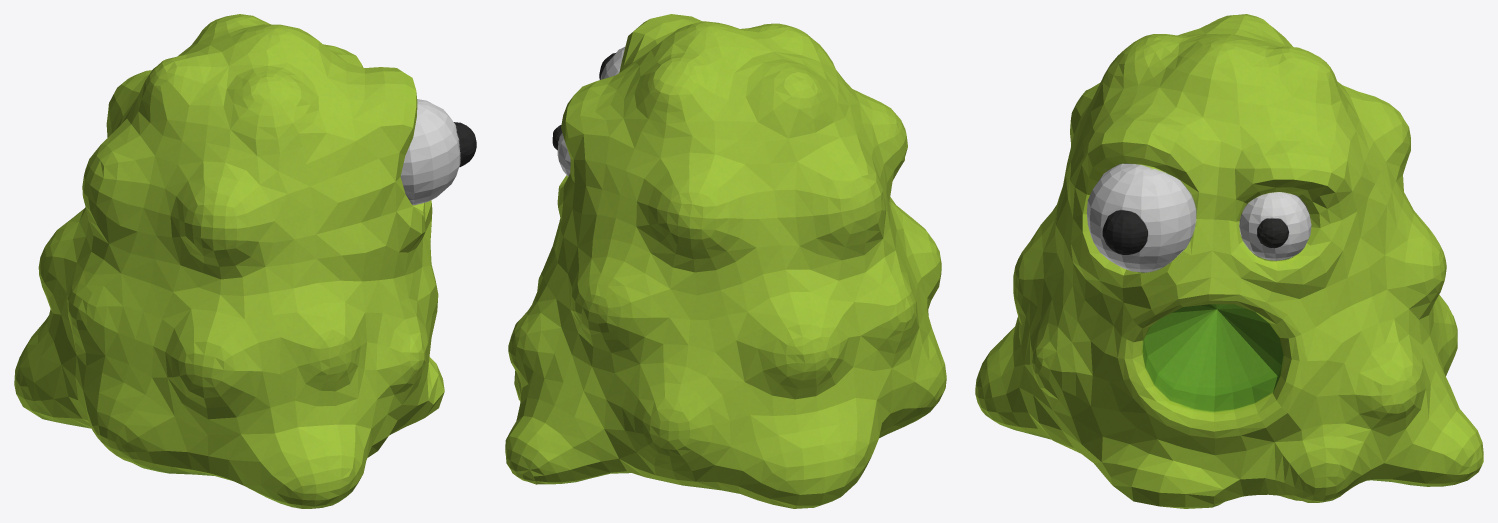
File: sable.glb
3 views of the same model, side by side, from view 1: azimuth 30°, elevation 25°; view 2: azimuth 150°, elevation 25°; view 3: azimuth 270°, elevation 25° (orthographic). The views are drawn at different scales.
Visible parts, largest first — view 1: tripo_node_79afbab9-cbb0-41e0-a78e-1f679d4bdbff; view 2: tripo_node_79afbab9-cbb0-41e0-a78e-1f679d4bdbff; view 3: tripo_node_79afbab9-cbb0-41e0-a78e-1f679d4bdbff.
Part boxes in pixels (bbox=[...]): tripo_node_79afbab9-cbb0-41e0-a78e-1f679d4bdbff: bbox=[14, 14, 476, 508]; tripo_node_79afbab9-cbb0-41e0-a78e-1f679d4bdbff: bbox=[505, 14, 946, 508]; tripo_node_79afbab9-cbb0-41e0-a78e-1f679d4bdbff: bbox=[975, 14, 1483, 508].
Size of the model in its own units: 0.8457 by 0.8848 by 0.998.
Materials: 1 (1 with a texture image).
